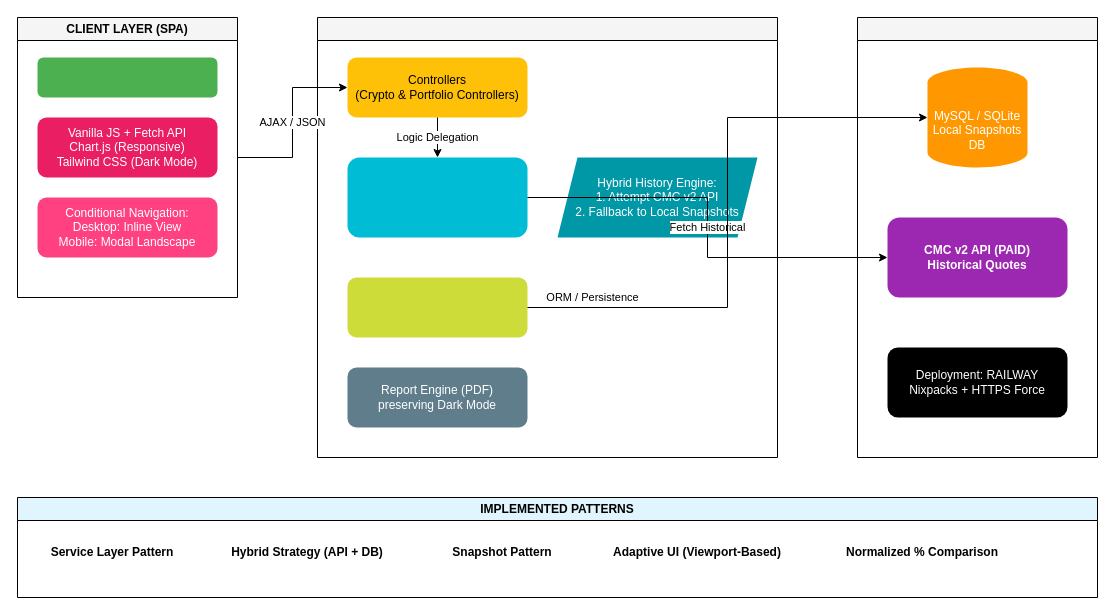
This 1115x615 diagram has some shape labels left out. Each missing label, with the box of its shape:
BACKEND LAYER (LARAVEL 12): (316, 16, 778, 458)
Blade Template (Single Page): (37, 57, 217, 97)
DATA & EXTERNAL API: (856, 16, 1098, 458)
Eloquent Models (Portfolio, PriceSnapshot): (347, 277, 527, 337)
Service Layer CoinMarketCapService v2: (347, 157, 527, 237)
